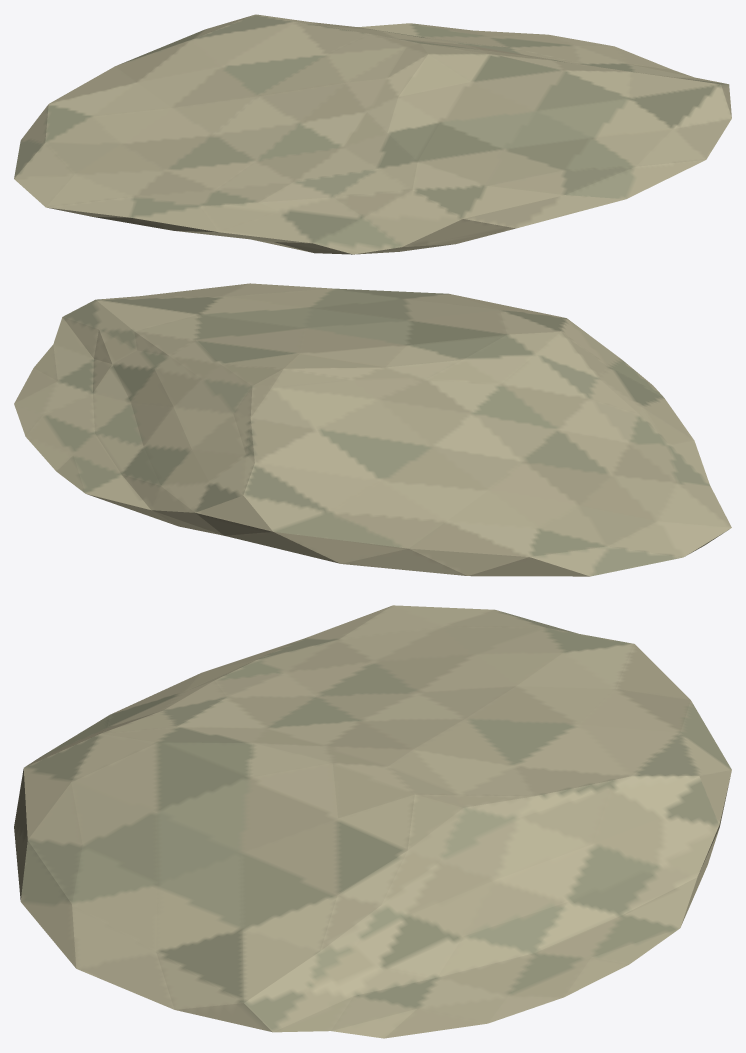
File: SM_Rock_Slab.fbx
3 renders of one model, top to bottom at view 1: azimuth 30°, elevation 25°; view 2: azimuth 150°, elevation 25°; view 3: azimuth 270°, elevation 25°, orthographic. The views are drawn at different scales.
Parts seen in each view (by area): view 1: SM_Rock_Slab_LOD0; view 2: SM_Rock_Slab_LOD0; view 3: SM_Rock_Slab_LOD0.
Part boxes in pixels (x1,y1,x2,y2): SM_Rock_Slab_LOD0: [14, 14, 731, 254]; SM_Rock_Slab_LOD0: [14, 283, 731, 576]; SM_Rock_Slab_LOD0: [14, 605, 731, 1038].
Size of what is drawn, in the model's own units: 2.27 by 0.2542 by 1.61.
